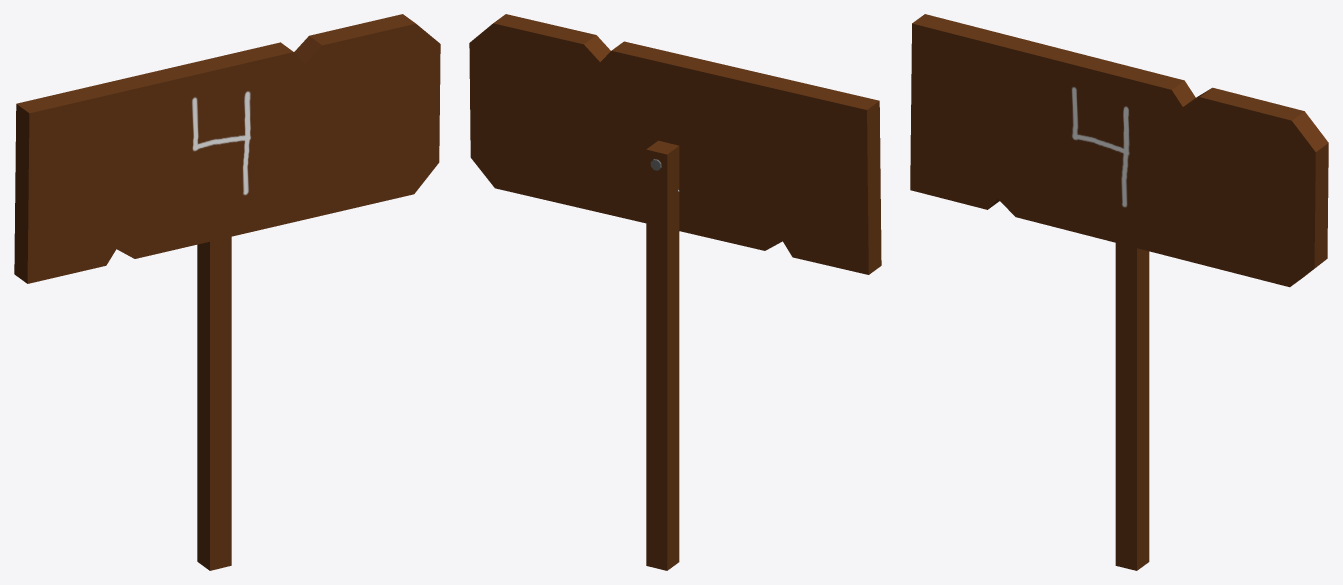
The model's file is sign3.glb.
3 views of the same model, side by side, from view 1: azimuth 30°, elevation 25°; view 2: azimuth 150°, elevation 25°; view 3: azimuth 330°, elevation 25° (orthographic). The views are drawn at different scales.
Visible parts, largest first — view 1: Sign 3; view 2: Sign 3; view 3: Sign 3.
Part boxes in pixels (x1,y1,x2,y2): Sign 3: (14,14,440,570); Sign 3: (469,14,881,570); Sign 3: (910,14,1328,570).
Size of the model in its own units: 2.01 by 2.39 by 0.2277.
Materials: 2 (1 with a texture image).
